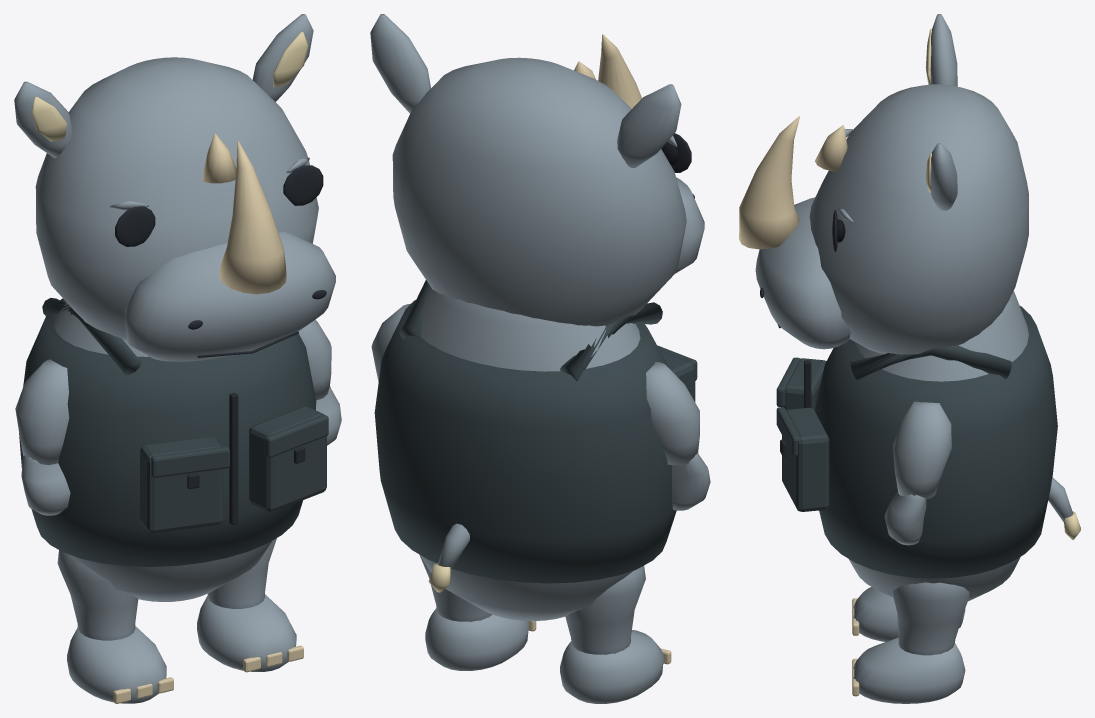
File: rhino.glb
The picture shows the model from 3 angles, left to right: view 1: azimuth 30°, elevation 25°; view 2: azimuth 150°, elevation 25°; view 3: azimuth 270°, elevation 25°; orthographic projection. The views are drawn at different scales.
Visible parts, largest first — view 1: Head_mesh, Gear_Vest_mesh, LeftFoot_mesh, RightFoot_mesh, continuous_rhino_body, common_rhino_leftArm_mesh, Gear_Glasses_mesh, common_rhino_leftPaw_mesh, common_rhino_rightArm_mesh, common_rhino_rightPaw_mesh; view 2: Head_mesh, Gear_Vest_mesh, continuous_rhino_body, LeftFoot_mesh, RightFoot_mesh, common_rhino_leftArm_mesh, common_rhino_leftPaw_mesh, common_rhino_tail_mesh, common_rhino_rightArm_mesh; view 3: Head_mesh, Gear_Vest_mesh, RightFoot_mesh, continuous_rhino_body, common_rhino_rightArm_mesh, LeftFoot_mesh, common_rhino_rightPaw_mesh, common_rhino_tail_mesh.
Boxes of the visible parts, x1,y1,x2,y2 form: Head_mesh: (14, 14, 335, 361); Gear_Vest_mesh: (19, 298, 328, 566); LeftFoot_mesh: (57, 550, 173, 703); RightFoot_mesh: (197, 538, 303, 672); continuous_rhino_body: (53, 300, 272, 601); common_rhino_leftArm_mesh: (15, 359, 69, 465); Gear_Glasses_mesh: (115, 165, 323, 246); common_rhino_leftPaw_mesh: (21, 455, 70, 515); common_rhino_rightArm_mesh: (298, 319, 331, 400); common_rhino_rightPaw_mesh: (316, 386, 341, 445); Head_mesh: (370, 14, 704, 326); Gear_Vest_mesh: (374, 280, 697, 583); continuous_rhino_body: (420, 286, 640, 620); LeftFoot_mesh: (560, 565, 671, 703); RightFoot_mesh: (419, 554, 536, 670); common_rhino_leftArm_mesh: (646, 362, 699, 465); common_rhino_leftPaw_mesh: (672, 452, 710, 510); common_rhino_tail_mesh: (428, 523, 469, 592); common_rhino_rightArm_mesh: (371, 303, 410, 381); Head_mesh: (739, 14, 1028, 354); Gear_Vest_mesh: (776, 306, 1057, 578); RightFoot_mesh: (852, 582, 969, 703); continuous_rhino_body: (849, 291, 1028, 601); common_rhino_rightArm_mesh: (893, 401, 951, 499); LeftFoot_mesh: (852, 587, 965, 641); common_rhino_rightPaw_mesh: (884, 492, 926, 545); common_rhino_tail_mesh: (1048, 477, 1080, 539).
Bounding box in the file's own units: 1.07 × 1.97 × 1.05.
